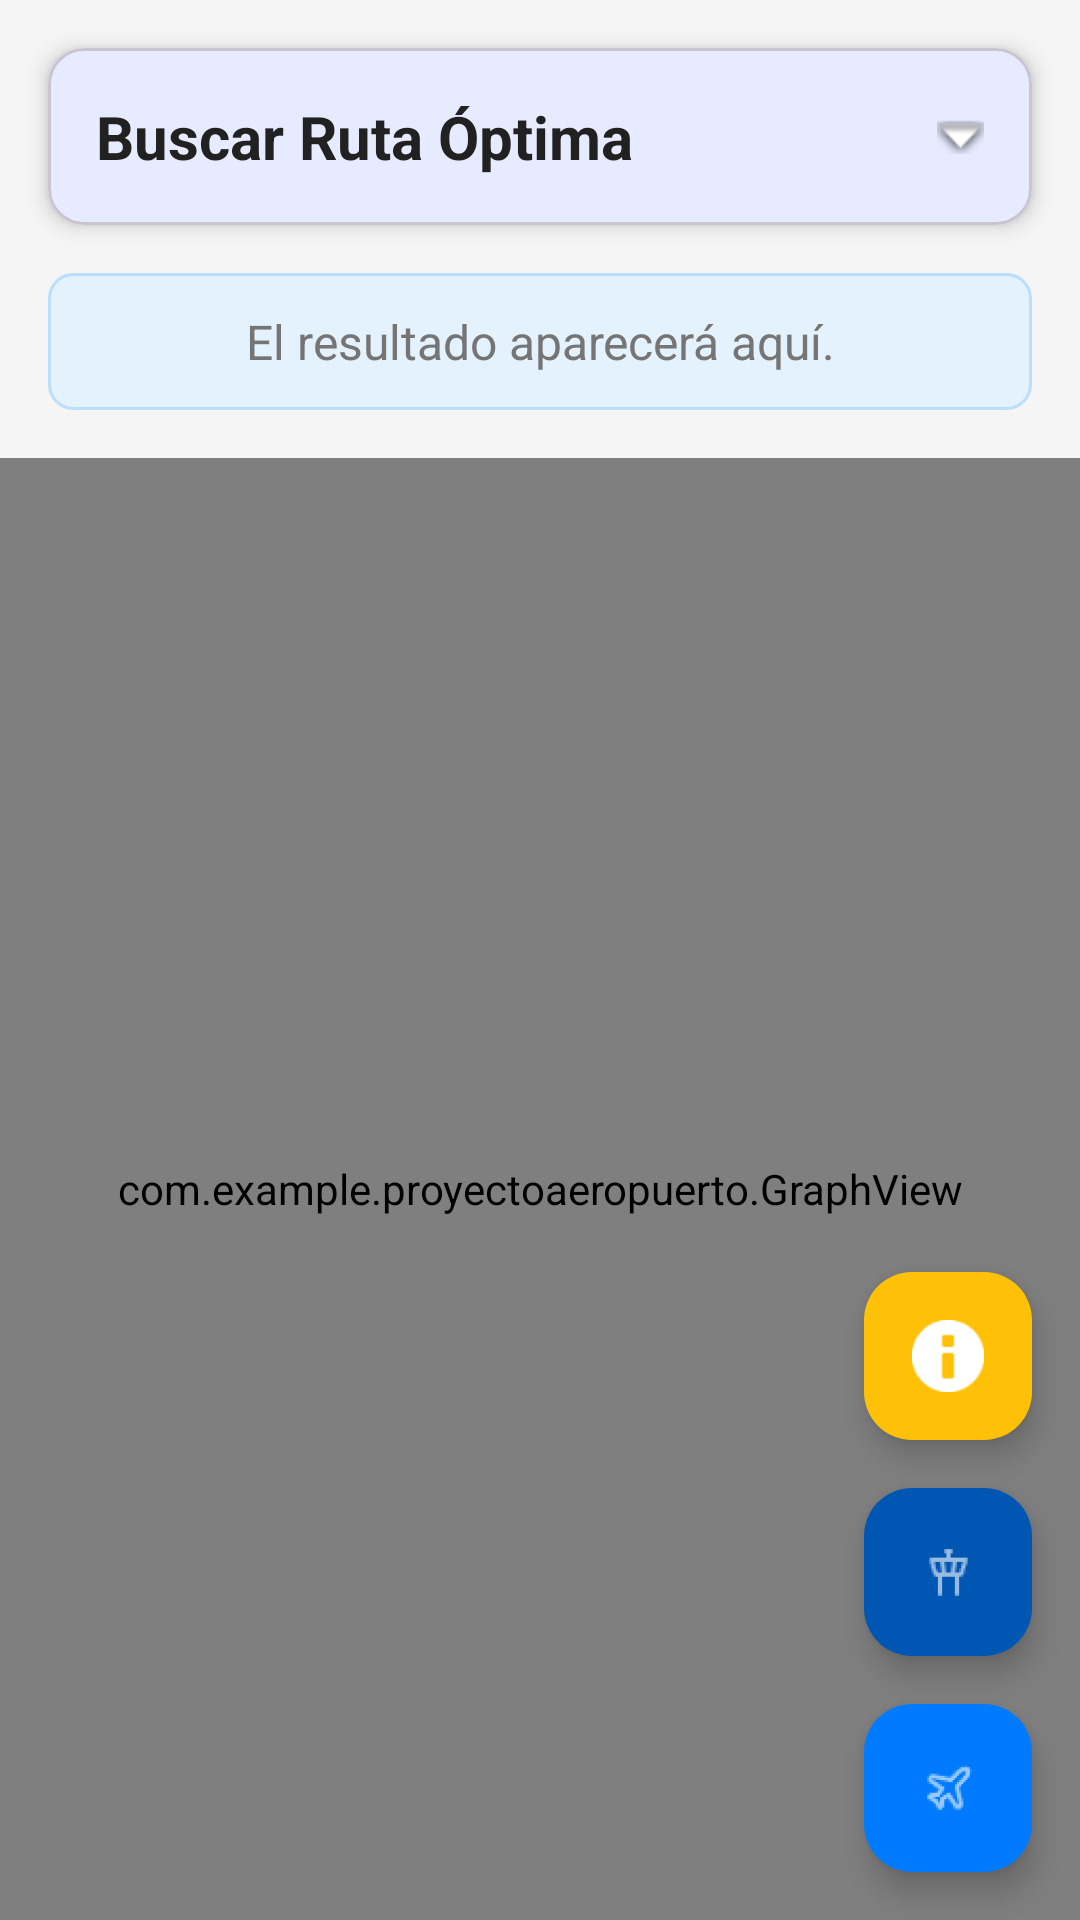

Icons on this 1080 x 1920 Android screen, each with the point to tap as (x,y):
airport add: (948,1572)
Mostrar/Ocultar opciones de búsqueda: (960,137)
plane add: (948,1788)
